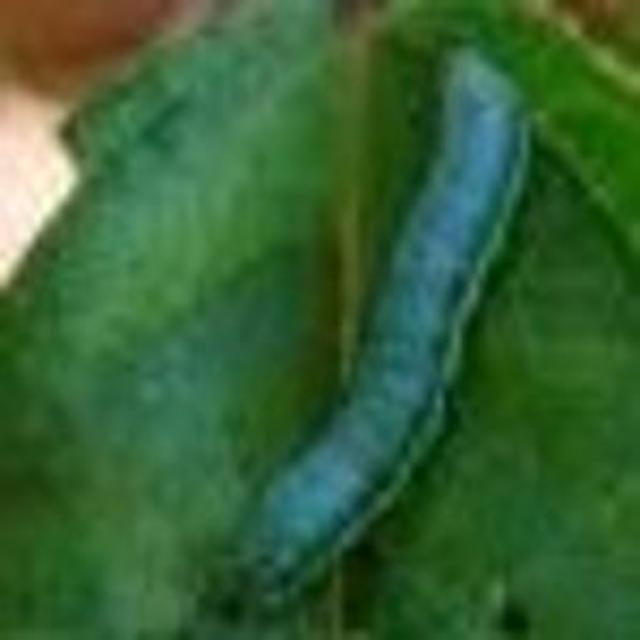Beet armyworm: (147, 15, 571, 611)
